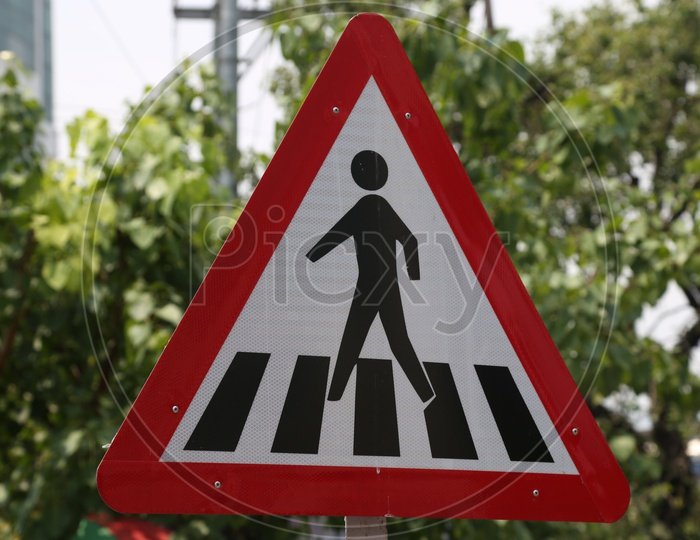pedestrian: (155, 122, 568, 481)
